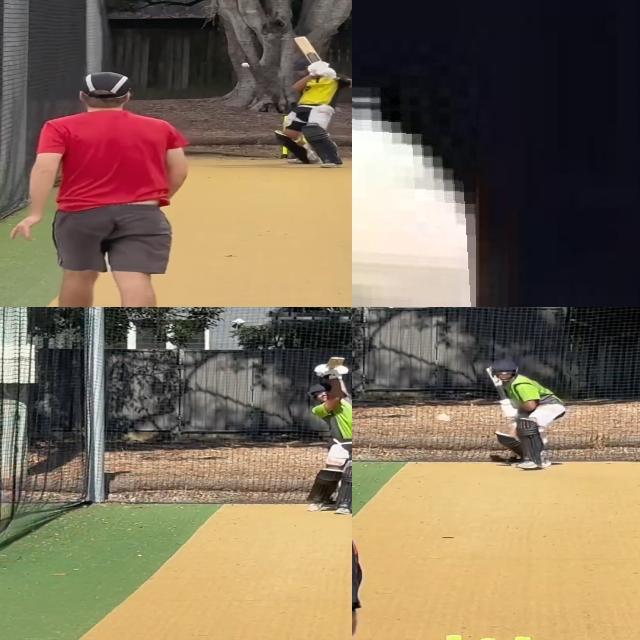Cricket ball: (352, 90, 476, 307), (435, 412, 453, 423), (239, 61, 252, 69)
